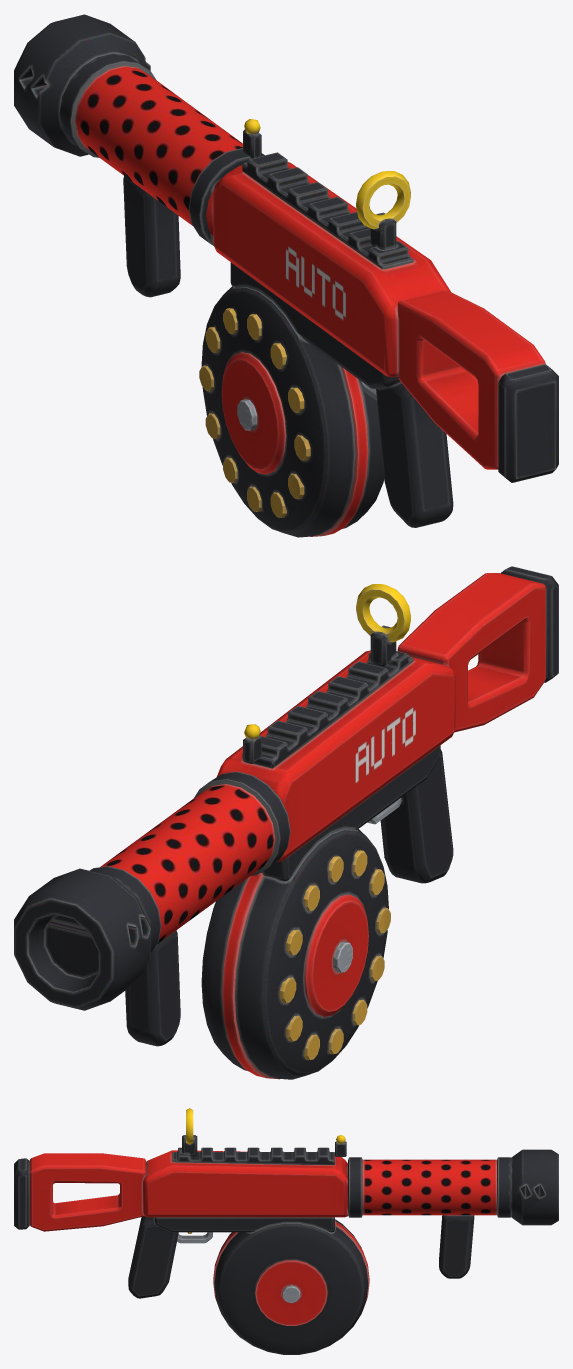
The model's file is sg_autodrum.glb.
3 renders of one model, top to bottom at view 1: azimuth 30°, elevation 25°; view 2: azimuth 150°, elevation 25°; view 3: azimuth 270°, elevation 25°, orthographic. The views are drawn at different scales.
Parts seen in each view (by area): view 1: sg_autodrum; view 2: sg_autodrum; view 3: sg_autodrum.
Part boxes in pixels (x1,y1,x2,y2): sg_autodrum: [14, 14, 558, 537]; sg_autodrum: [14, 566, 558, 1079]; sg_autodrum: [14, 1108, 558, 1354].
Bounding box in the file's own units: 0.1275 × 0.4583 × 0.937.
Materials: 8 (8 with a texture image).
